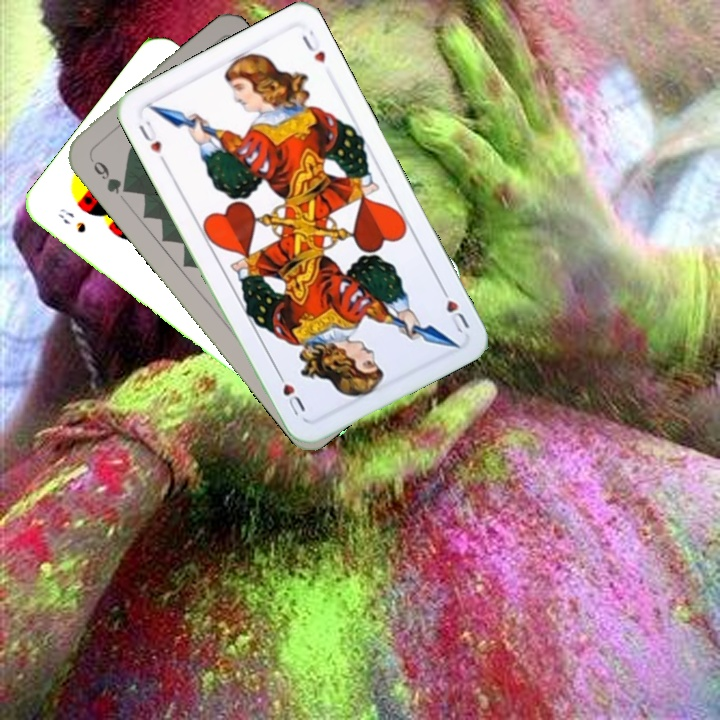G9: (85, 152, 133, 197)
HU: (436, 281, 472, 336), (134, 116, 169, 167)
S8: (54, 204, 89, 236)
